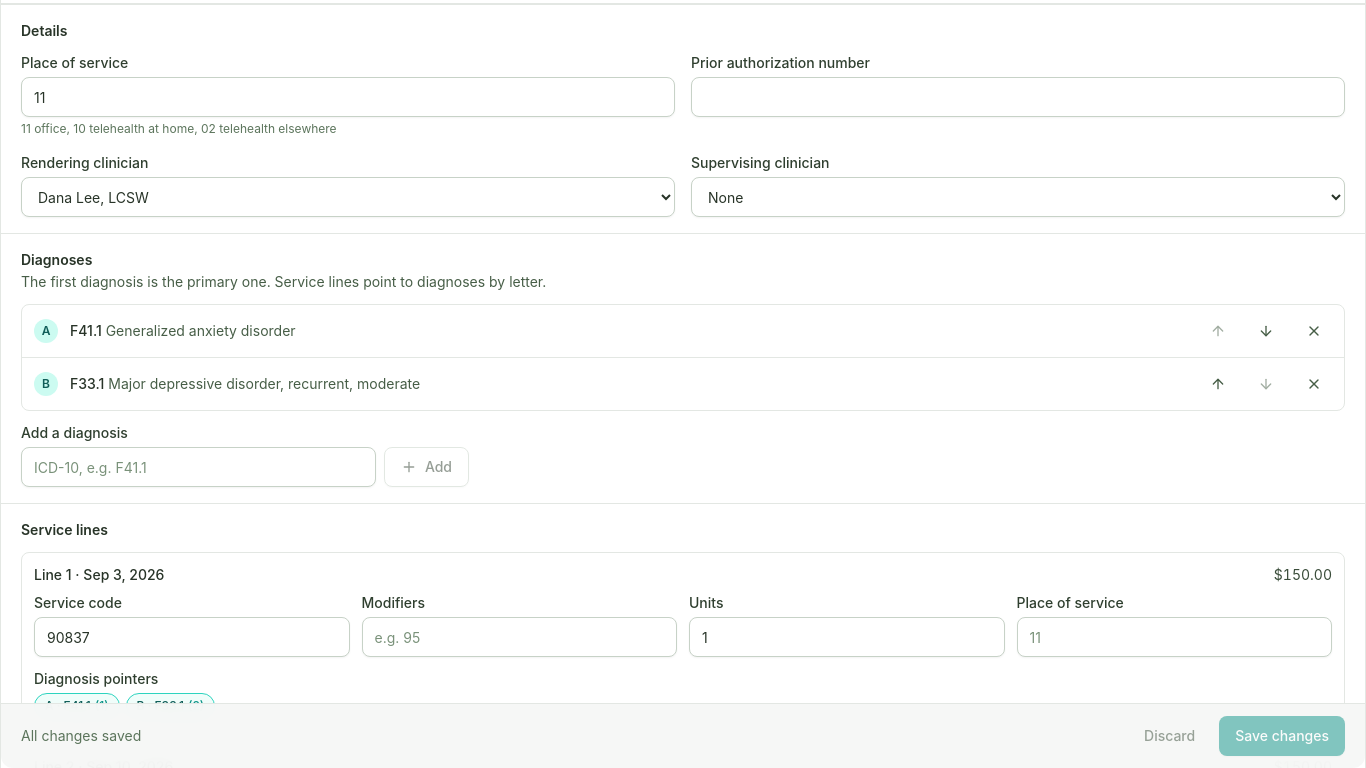
Scenario: claim page › says a clean draft is ready and saves an edited diagnosis order
(page scrolled)
Click the button named "Move F33.1 up": (1218, 384) [1200,366,1236,402]
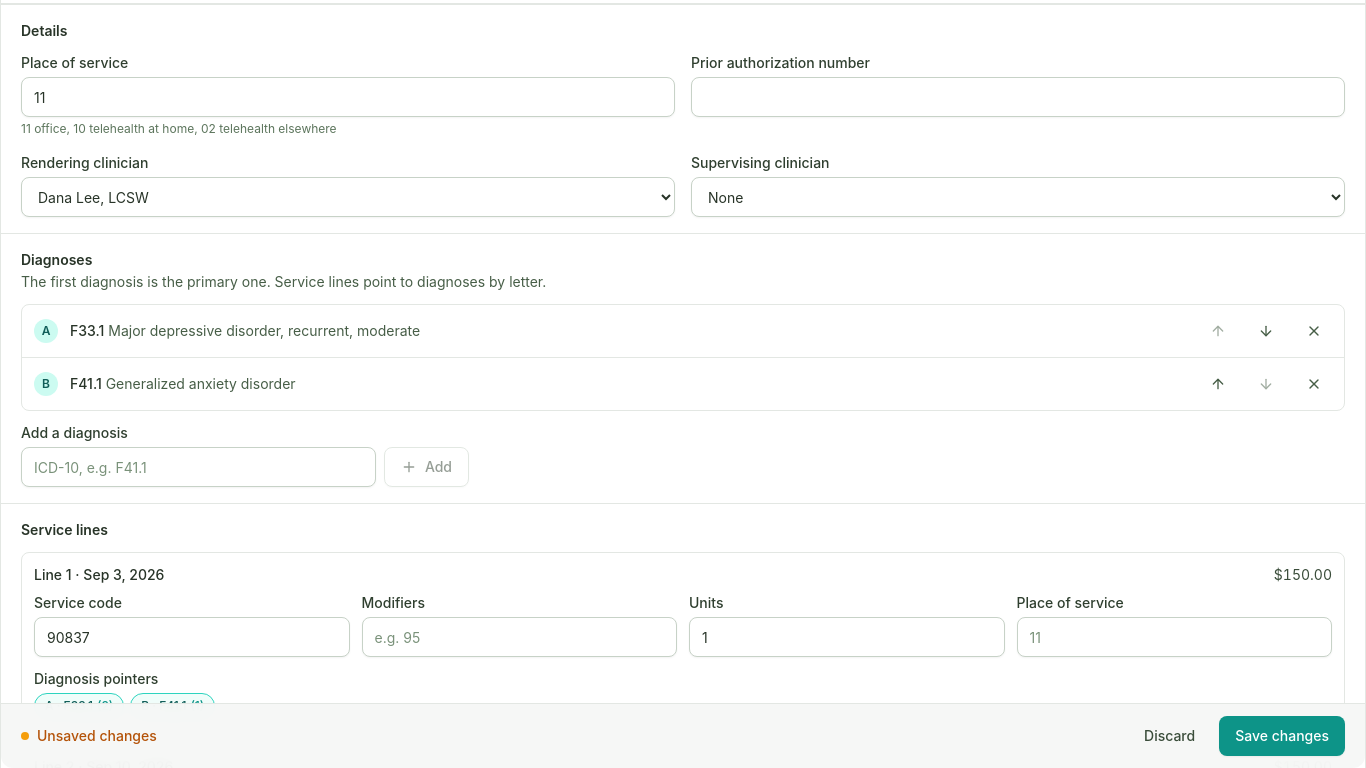
Click the button "Save changes": (1282, 736) [1219,716,1345,756]
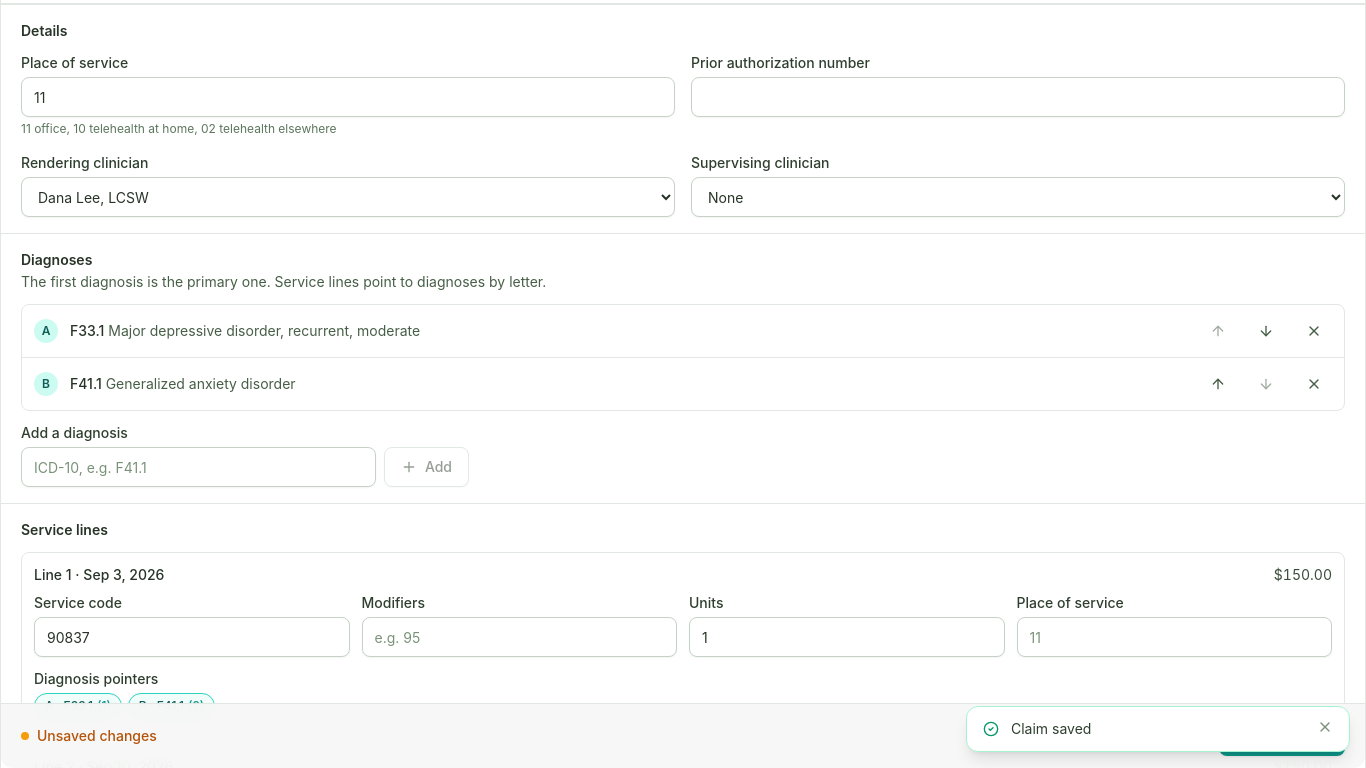
Expected: the text "Claim saved" is shown, [1011,720,1092,737]
